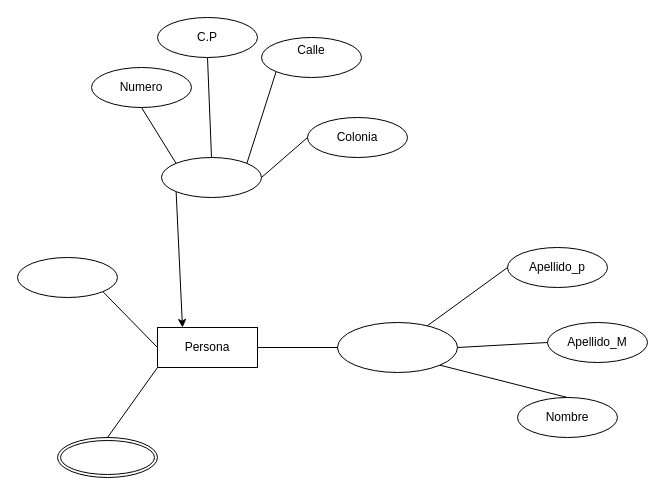
This 665x495 diagram has some shape labels left out. Each missing label, with the box of its shape:
Direccion: (160, 156, 262, 198)
Nombre_Competo: (336, 322, 458, 372)
Pasaporte: (16, 256, 118, 298)
Telefono: (56, 436, 158, 478)
